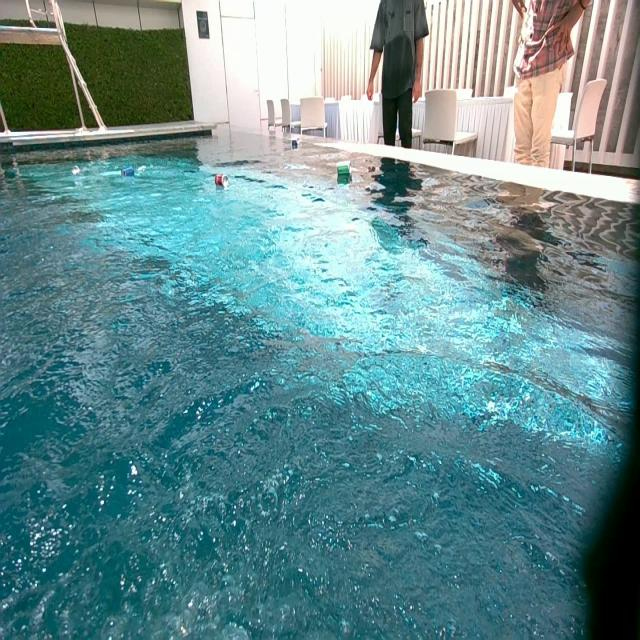Cans: (338, 162, 352, 178), (215, 174, 228, 188), (122, 166, 136, 178), (72, 165, 82, 178), (290, 137, 300, 148)
